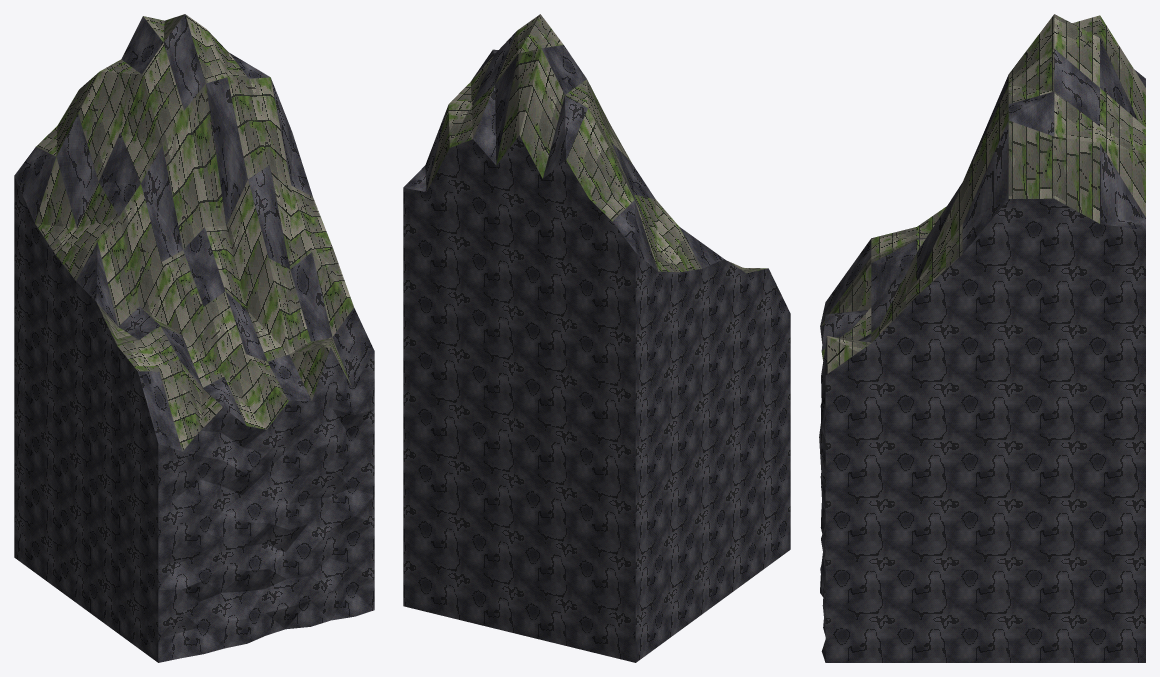
File: monte_a.obj
3 views of the same model, side by side, from view 1: azimuth 30°, elevation 25°; view 2: azimuth 150°, elevation 25°; view 3: azimuth 270°, elevation 25° (orthographic). The views are drawn at different scales.
Parts seen in each view (by area): view 1: monte_a; view 2: monte_a; view 3: monte_a.
Part boxes in pixels (bbox=[...]): monte_a: bbox=[14, 14, 374, 662]; monte_a: bbox=[403, 14, 790, 662]; monte_a: bbox=[819, 14, 1145, 662].
Size of the model in its own units: 26 by 62.21 by 30.6.
Materials: 2 (2 with a texture image).
